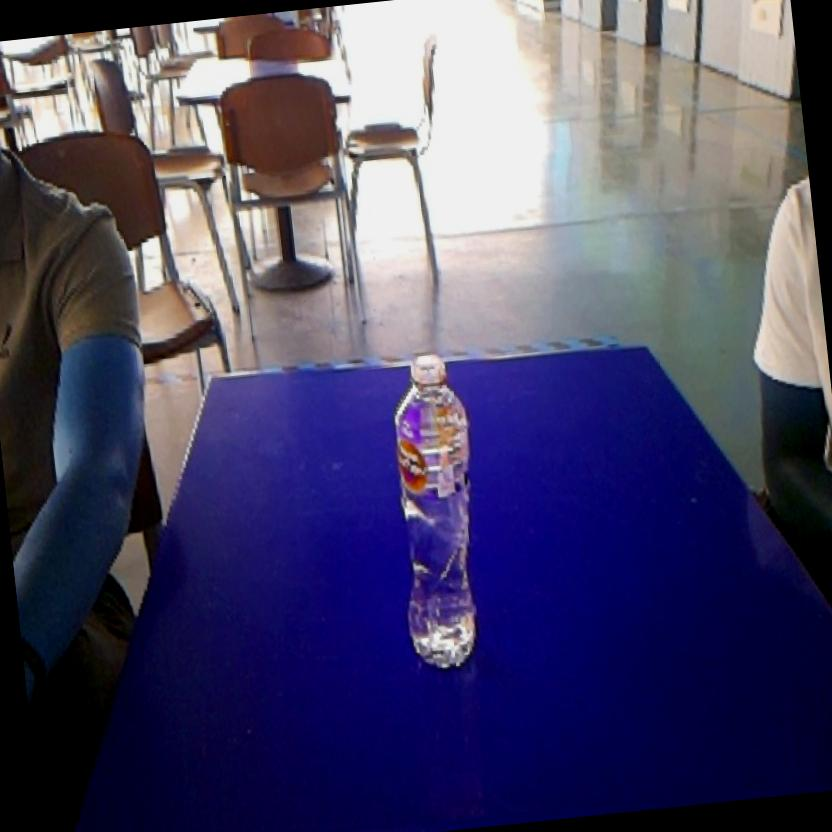no_cap: (372, 336, 502, 686)
